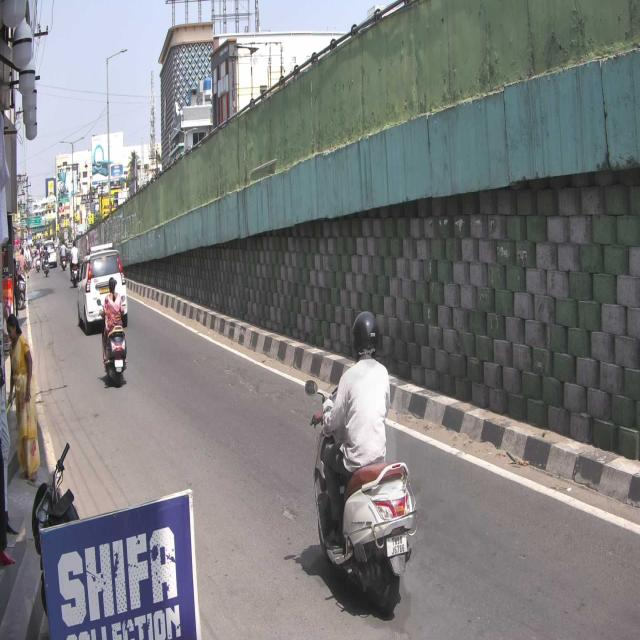single_rider: (304, 308, 418, 615), (96, 276, 130, 387)
